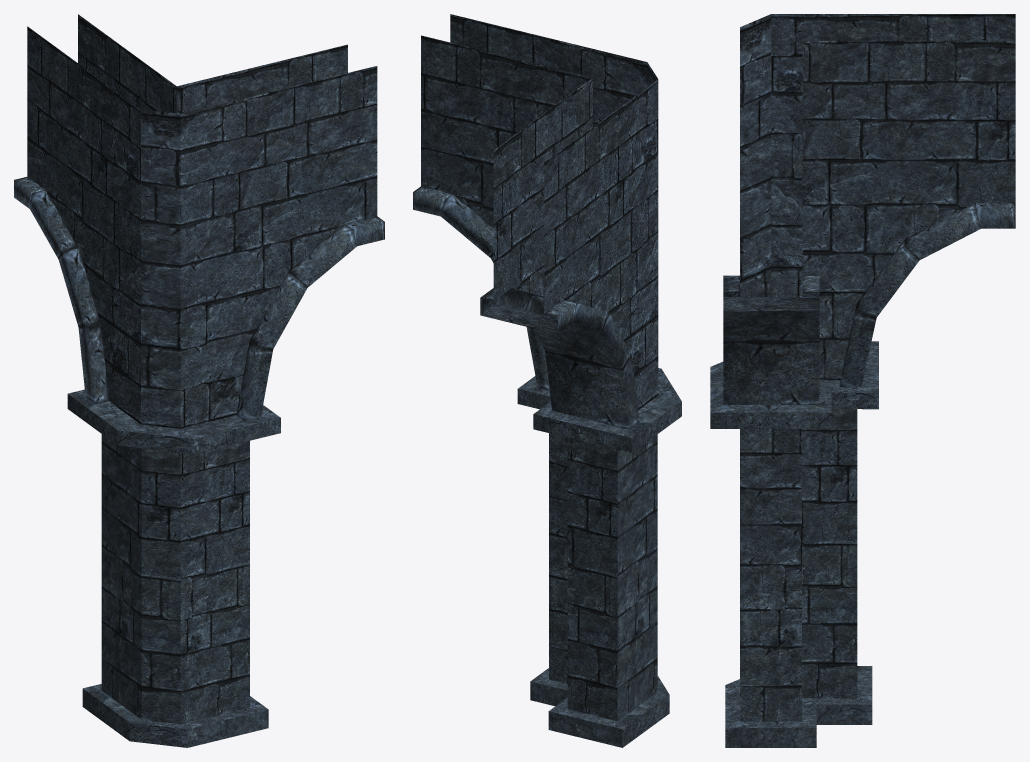
Rendered from Arch_2side.FBX.
The picture shows the model from 3 angles, left to right: view 1: azimuth 30°, elevation 25°; view 2: azimuth 150°, elevation 25°; view 3: azimuth 270°, elevation 25°; orthographic projection. The views are drawn at different scales.
Visible parts, largest first — view 1: Object21; view 2: Object21; view 3: Object21.
Boxes of the visible parts, x1,y1,x2,y2 form: Object21: [14, 14, 384, 747]; Object21: [413, 14, 681, 747]; Object21: [710, 14, 1015, 747].
Size of the model in its own units: 28.65 by 70.28 by 28.69.
